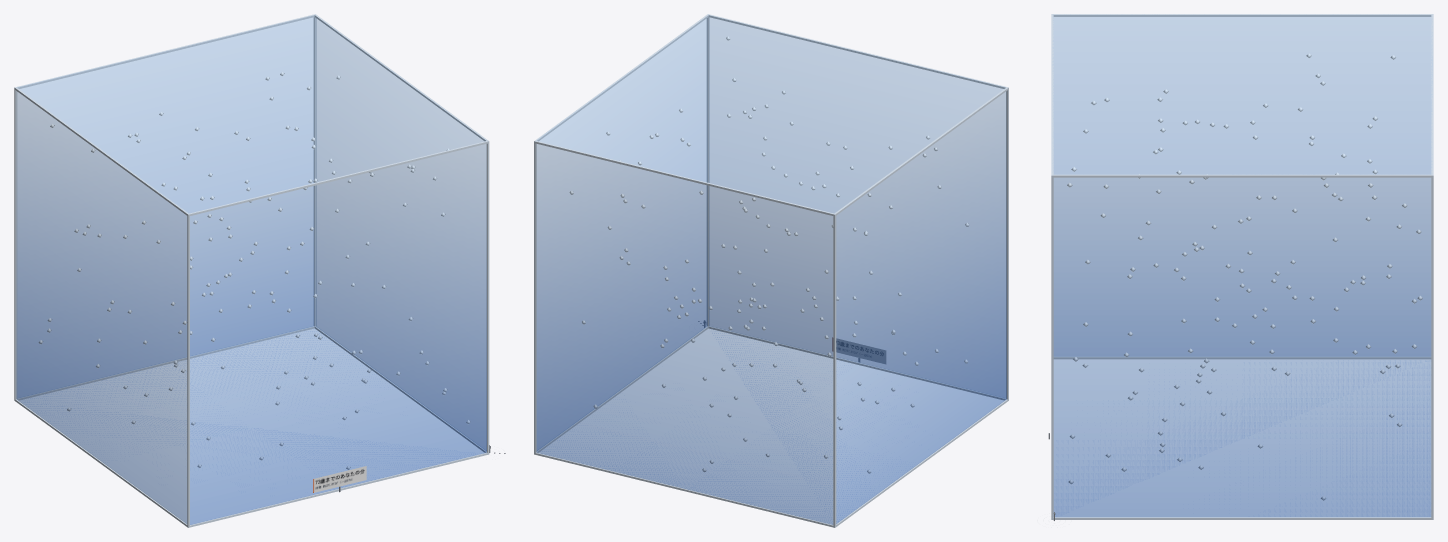
The model's file is cube_life_73.glb.
The picture shows the model from 3 angles, left to right: view 1: azimuth 30°, elevation 25°; view 2: azimuth 150°, elevation 25°; view 3: azimuth 270°, elevation 25°; orthographic projection. The views are drawn at different scales.
Parts seen in each view (by area): view 1: co2, edge, dots, label; view 2: co2, edge, dots, label; view 3: co2, edge, dots.
Part boxes in pixels (x1,y1,x2,y2): co2: (16,15,486,524); edge: (14,14,489,527); dots: (39,71,470,469); label: (313,466,366,492); co2: (536,15,1006,524); edge: (534,14,1008,527); dots: (569,36,969,473); label: (832,337,885,363); co2: (1053,15,1432,516); edge: (1051,14,1433,519); dots: (1067,53,1422,500).
Size of the model in its own units: 70.49 by 66.72 by 69.59.
8 materials, 3 textured.
